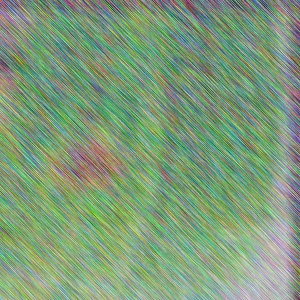Bacterial_Leaf_Blight: (50, 137, 129, 194)
